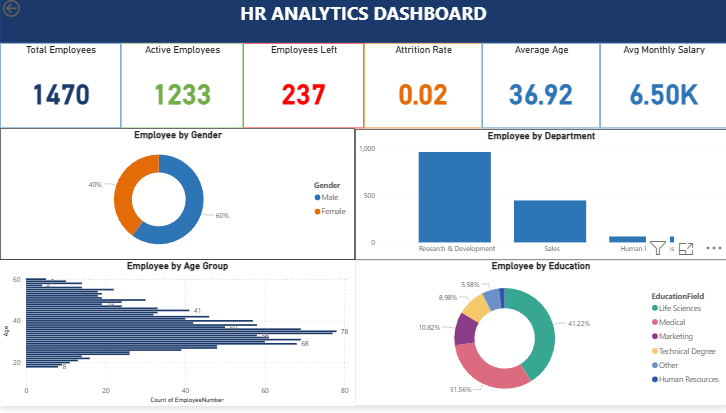

The page's visual inventory and layout, read from the dashboard file:
{"tool":"powerbi","page":{"name":"Page 1","canvas":[1280,720],"ordinal":0},"visuals":[{"type":"shape","box":[0,0,1280,80.6],"z":0},{"type":"textbox","box":[0,0,1280,81],"z":1000},{"type":"card","title":"Total Employees","fields":{"Values":["CountNonNull(WA_Fn-UseC_-HR-Employee-Attrition.EmployeeNumber)"]},"box":[0,81,213,149.7],"z":2000},{"type":"card","title":"Active Employees","fields":{"Values":["WA_Fn-UseC_-HR-Employee-Attrition.Active Employees"]},"box":[213,81,214.8,149.7],"z":3000},{"type":"card","title":"Employees Left","fields":{"Values":["WA_Fn-UseC_-HR-Employee-Attrition.Attrition Count"]},"box":[427.8,81,213,149.7],"z":4000},{"type":"card","title":"Attrition Rate","fields":{"Values":["WA_Fn-UseC_-HR-Employee-Attrition.Attrition Rate"]},"box":[640.9,81,207.8,149.7],"z":5000},{"type":"card","title":"Average Age","fields":{"Values":["Avg(WA_Fn-UseC_-HR-Employee-Attrition.Age)"]},"box":[848.6,81,207.8,149.7],"z":6000},{"type":"card","title":"Avg Monthly Salary","fields":{"Values":["Avg(WA_Fn-UseC_-HR-Employee-Attrition.MonthlyIncome)"]},"box":[1056.4,81,223.6,149.7],"z":7000},{"type":"donutChart","title":"Employee by Gender","fields":{"Category":["WA_Fn-UseC_-HR-Employee-Attrition.Gender"],"Y":["CountNonNull(WA_Fn-UseC_-HR-Employee-Attrition.EmployeeNumber)"]},"box":[0,230.6,625,232.4],"z":8000},{"type":"columnChart","title":"Employee by Department","fields":{"Category":["WA_Fn-UseC_-HR-Employee-Attrition.Department"],"Y":["CountNonNull(WA_Fn-UseC_-HR-Employee-Attrition.EmployeeNumber)"]},"box":[625,232.4,655,230.6],"z":9000},{"type":"clusteredBarChart","title":"Employee by Age Group","fields":{"Category":["WA_Fn-UseC_-HR-Employee-Attrition.Age"],"Y":["CountNonNull(WA_Fn-UseC_-HR-Employee-Attrition.EmployeeNumber)"]},"box":[0,463.1,625,257.1],"z":10000},{"type":"donutChart","title":"Employee by Education","fields":{"Category":["WA_Fn-UseC_-HR-Employee-Attrition.EducationField"],"Y":["CountNonNull(WA_Fn-UseC_-HR-Employee-Attrition.EmployeeNumber)"]},"box":[625,463,655,257],"z":11000},{"type":"actionButton","title":"Overview","box":[0,1.7,165,80],"z":12000},{"type":"actionButton","title":"Attrition","box":[165,0,140,80],"z":13000},{"type":"actionButton","title":"Salary","box":[906.7,0,163.3,80],"z":14000},{"type":"actionButton","title":"Details","box":[1070,0,210,80],"z":15000}]}

Visuals, with their boxes in screenshot pixels (x1, y1, x2, y2), scaled from the page's 1280x720 canvas onto the 726x413 screenshot:
shape: [0, 0, 725, 46]
textbox: [0, 0, 725, 46]
"Total Employees" card: [0, 46, 121, 132]
"Active Employees" card: [121, 46, 243, 132]
"Employees Left" card: [243, 46, 363, 132]
"Attrition Rate" card: [364, 46, 481, 132]
"Average Age" card: [481, 46, 599, 132]
"Avg Monthly Salary" card: [599, 46, 725, 132]
"Employee by Gender" donutChart: [0, 132, 354, 266]
"Employee by Department" columnChart: [354, 133, 725, 266]
"Employee by Age Group" clusteredBarChart: [0, 266, 354, 412]
"Employee by Education" donutChart: [354, 266, 725, 412]
"Overview" actionButton: [0, 1, 94, 47]
"Attrition" actionButton: [94, 0, 173, 46]
"Salary" actionButton: [514, 0, 607, 46]
"Details" actionButton: [607, 0, 725, 46]
